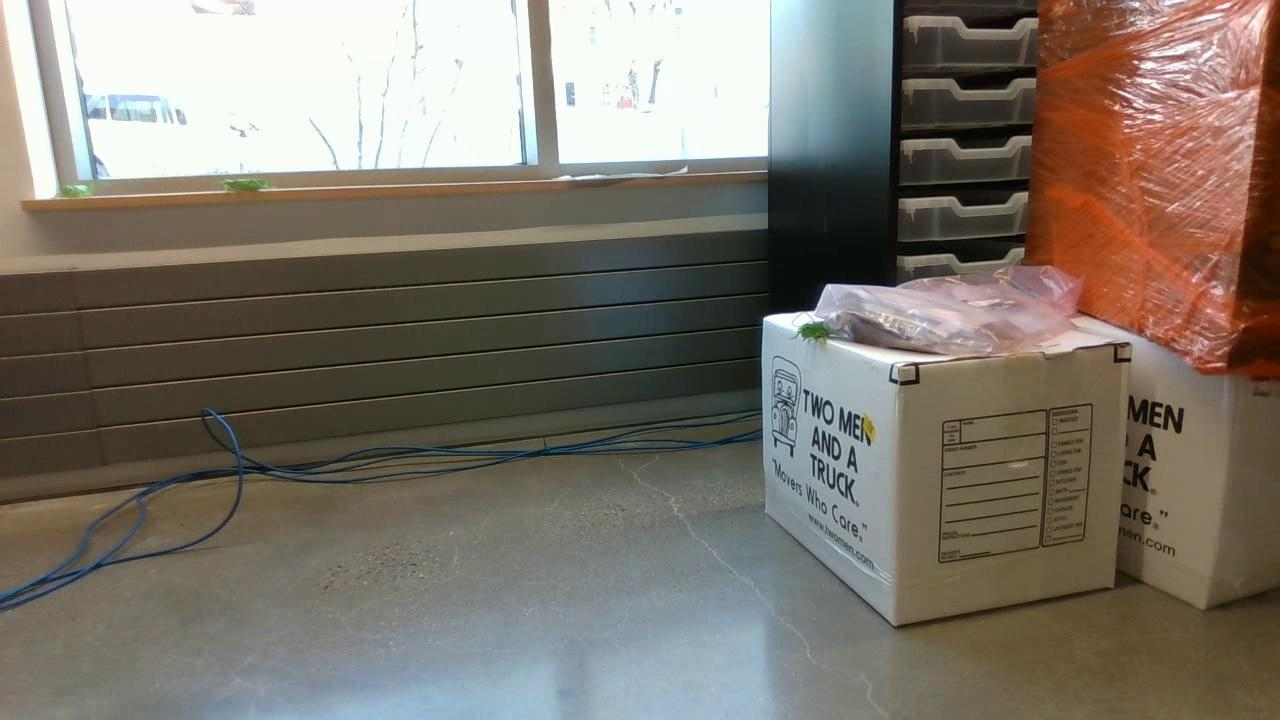grasshopper: (784, 311, 842, 340), (220, 174, 281, 195), (51, 179, 95, 201)
